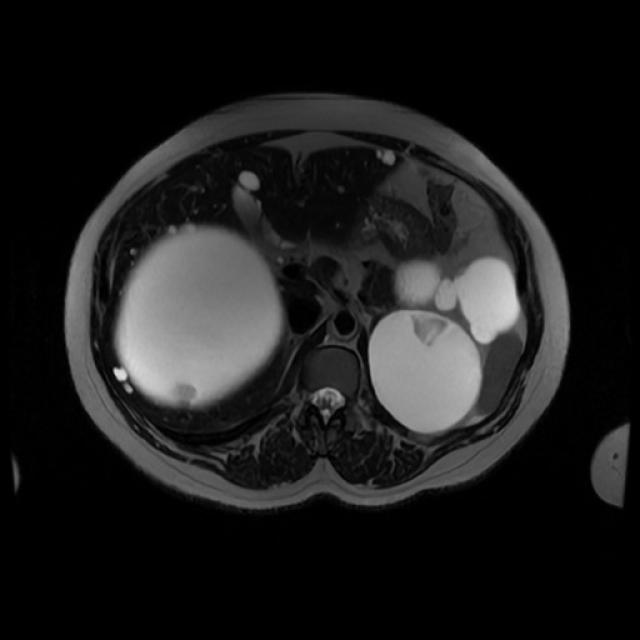sag: (116, 225, 286, 408)
sol: (370, 259, 518, 431)
